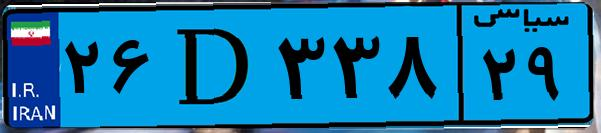2: (57, 26, 110, 100), (475, 38, 525, 113)
3: (270, 28, 330, 110), (330, 28, 385, 110)
6: (110, 28, 158, 98)
8: (385, 28, 445, 110)
9: (525, 38, 570, 115)
D: (158, 12, 270, 120)
